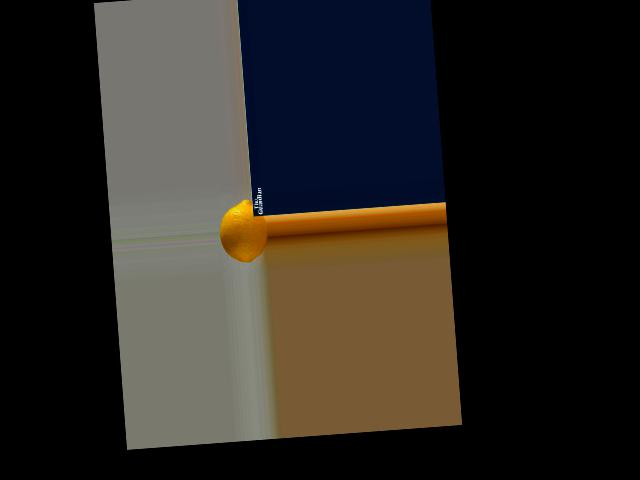lemon: (216, 189, 270, 273)
